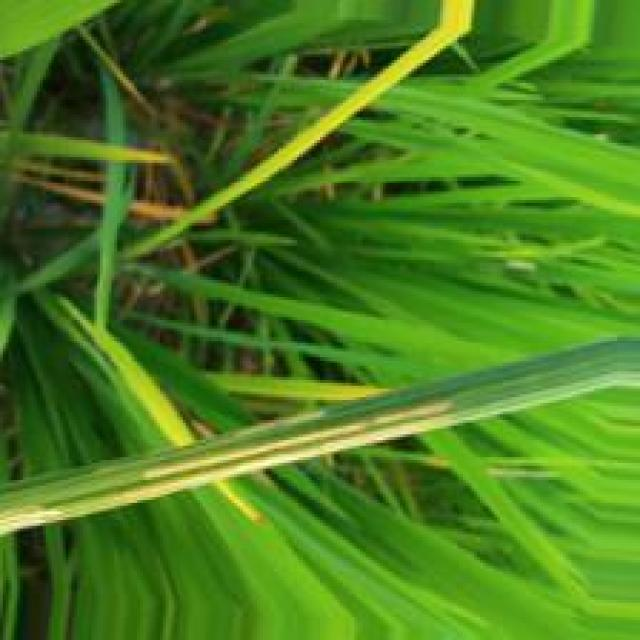Rice_Hispa: (87, 399, 458, 513), (0, 501, 75, 539)
